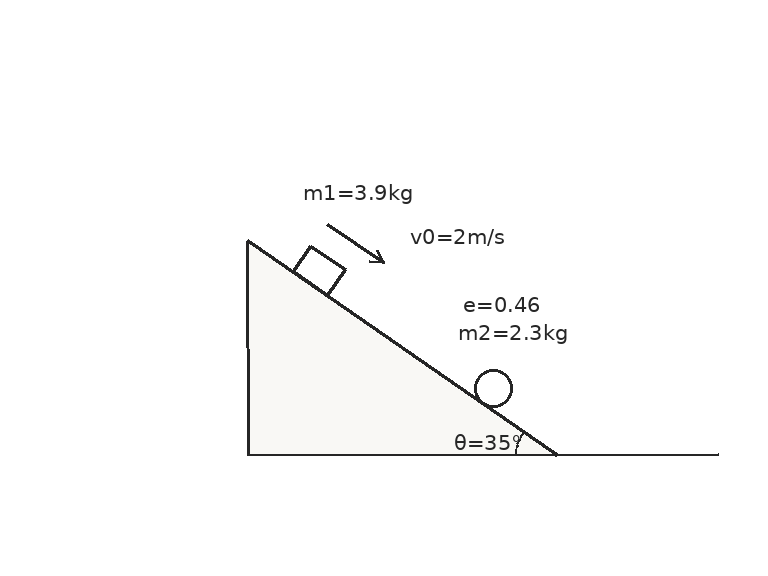ball: (472, 367, 514, 409)
block: (291, 244, 347, 297)
ramp: (246, 237, 558, 457)
